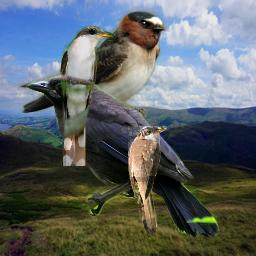Crow: (26, 75, 220, 239)
Cuckoo: (59, 25, 116, 166), (128, 126, 167, 234)
Swallow: (17, 6, 172, 120)
